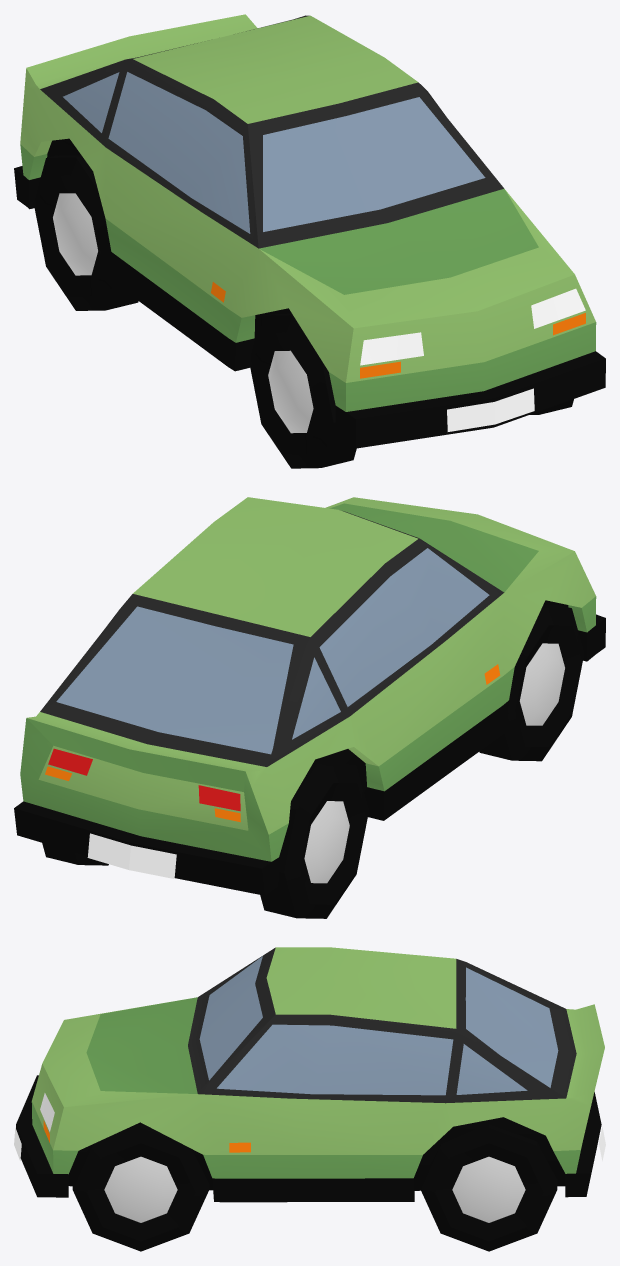
Rendered from sedan_green.glb.
3 views of the same model, one above another, from view 1: azimuth 30°, elevation 25°; view 2: azimuth 150°, elevation 25°; view 3: azimuth 270°, elevation 25° (orthographic). The views are drawn at different scales.
Visible parts, largest first — view 1: Object_20; view 2: Object_20; view 3: Object_20.
Boxes of the visible parts, x1,y1,x2,y2 form: Object_20: [14, 14, 605, 468]; Object_20: [14, 497, 605, 918]; Object_20: [14, 947, 605, 1251].
Size of the model in its own units: 2.47 by 2.37 by 5.68.
1 material, 1 textured.
